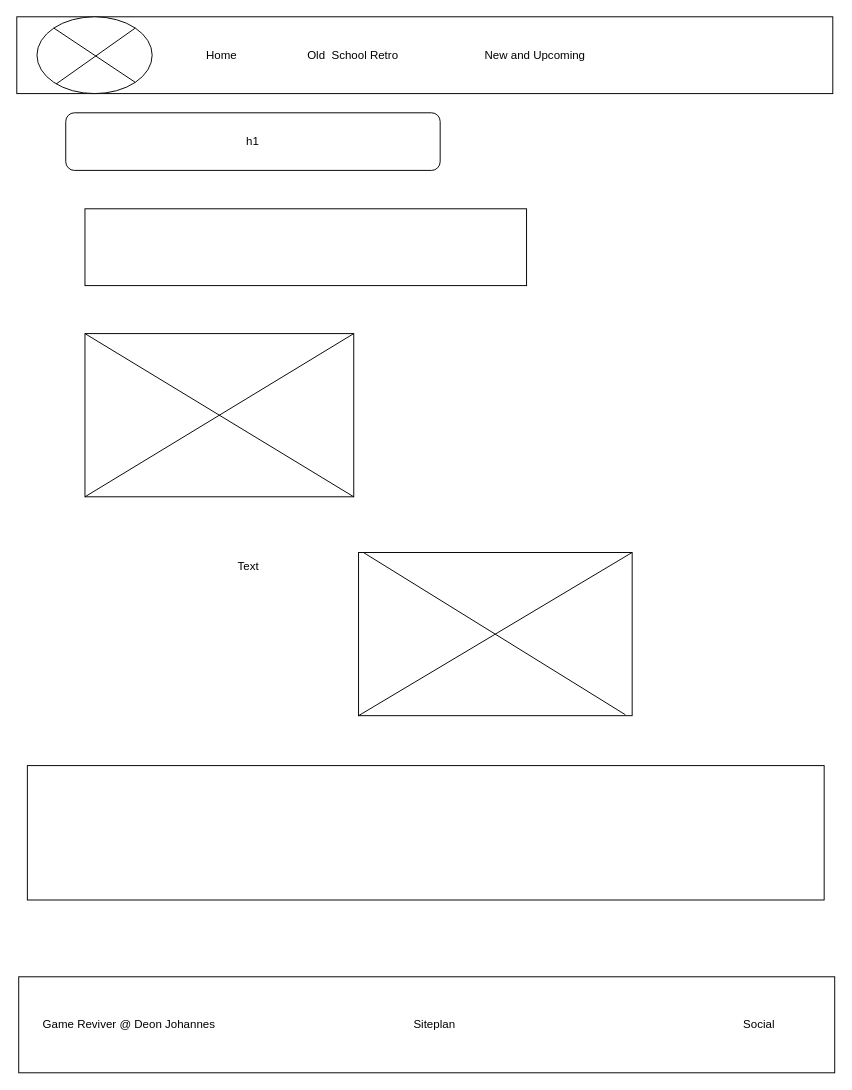
The diagram is 852 pixels wide and 1090 high, and some of its shapes have lost their labels. The centre of each missing label's shape, as x and y in pixels:
"h2" goes at (305,247).
"Paragraph" goes at (425,832).
